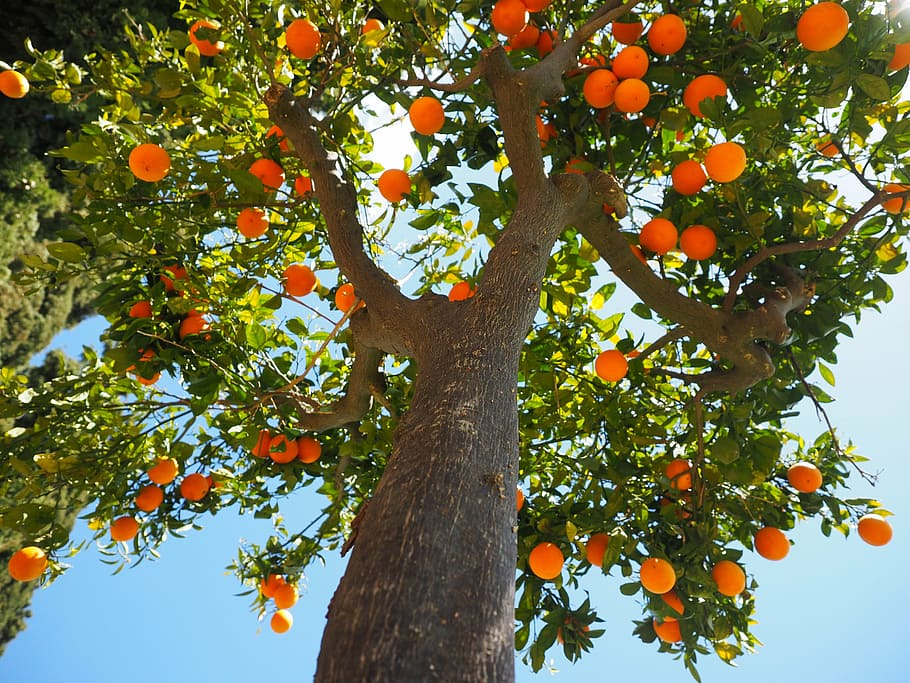orange: (796, 6, 847, 55), (280, 14, 319, 64), (3, 543, 46, 586), (126, 141, 169, 184), (684, 76, 729, 117), (647, 13, 687, 58), (406, 96, 448, 138), (245, 153, 286, 194), (635, 217, 676, 257), (612, 79, 654, 118), (705, 146, 749, 183), (636, 557, 678, 594), (580, 65, 617, 107), (754, 526, 793, 565), (485, 0, 529, 34), (581, 530, 619, 569), (853, 510, 892, 547), (185, 20, 224, 57), (377, 164, 414, 202), (671, 158, 710, 193), (232, 206, 271, 241), (283, 262, 318, 301), (782, 458, 819, 494), (528, 541, 564, 577), (105, 511, 141, 547), (678, 222, 713, 259), (709, 563, 747, 597), (331, 282, 371, 314), (594, 350, 628, 386), (877, 176, 908, 215), (146, 453, 183, 485), (0, 65, 32, 101), (608, 44, 644, 76), (648, 611, 681, 645), (664, 455, 695, 487), (176, 472, 207, 504), (510, 19, 540, 49), (651, 593, 683, 620), (273, 432, 298, 465), (133, 484, 161, 512), (296, 433, 322, 462), (180, 314, 209, 340), (259, 574, 284, 603), (270, 609, 294, 638), (273, 584, 300, 609), (249, 429, 273, 456), (359, 19, 384, 41), (127, 299, 147, 320)
